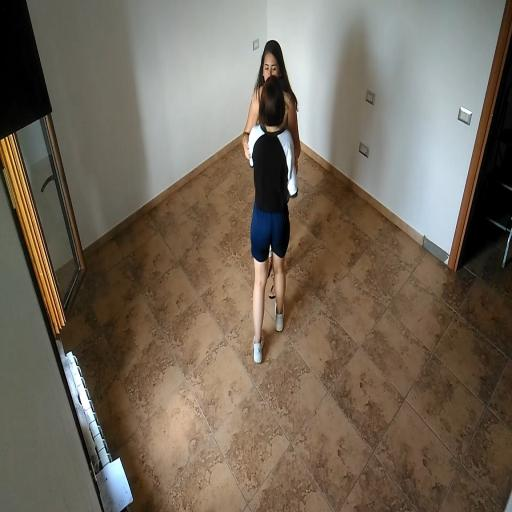nao-violencia: (229, 36, 319, 375)
